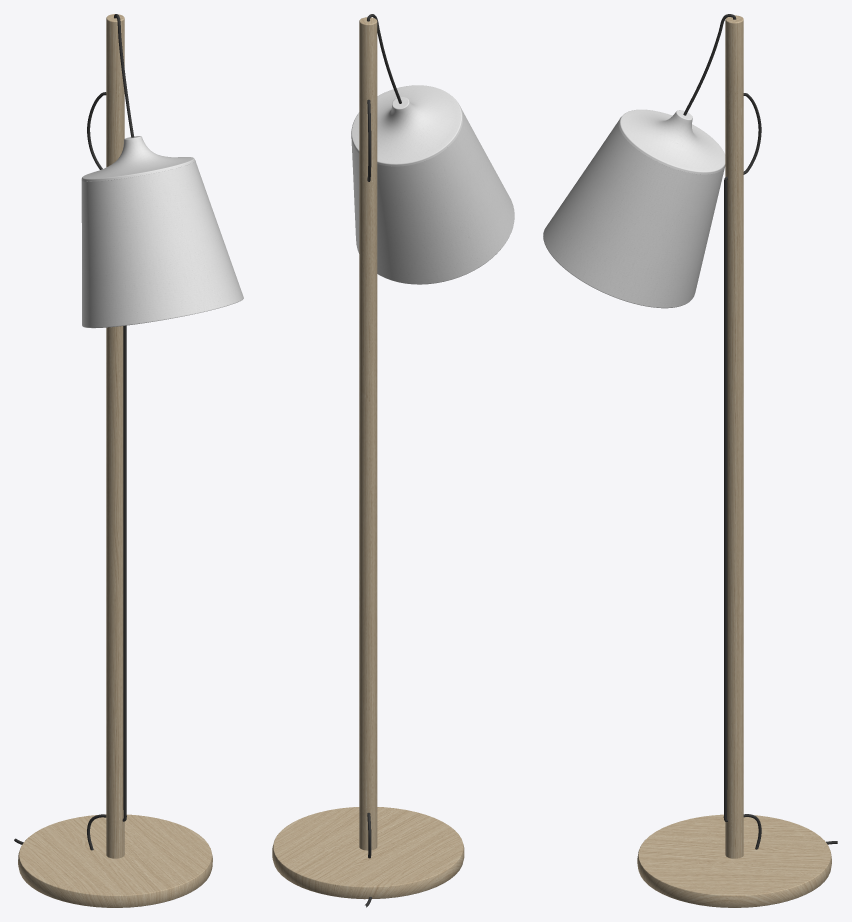
Rendered from muuto_lamp.gltf.
3 renders of one model, left to right at view 1: azimuth 30°, elevation 25°; view 2: azimuth 150°, elevation 25°; view 3: azimuth 270°, elevation 25°, orthographic.
Visible parts, largest first — view 1: Muuto_Pull_Floor_Lamp_high; view 2: Muuto_Pull_Floor_Lamp_high; view 3: Muuto_Pull_Floor_Lamp_high.
Part boxes in pixels (x1,y1,x2,y2): Muuto_Pull_Floor_Lamp_high: (14, 14, 243, 907); Muuto_Pull_Floor_Lamp_high: (272, 14, 514, 907); Muuto_Pull_Floor_Lamp_high: (543, 14, 837, 907).
Bounding box in the file's own units: 0.3182 × 1.54 × 0.4815.
1 material, 1 textured.
